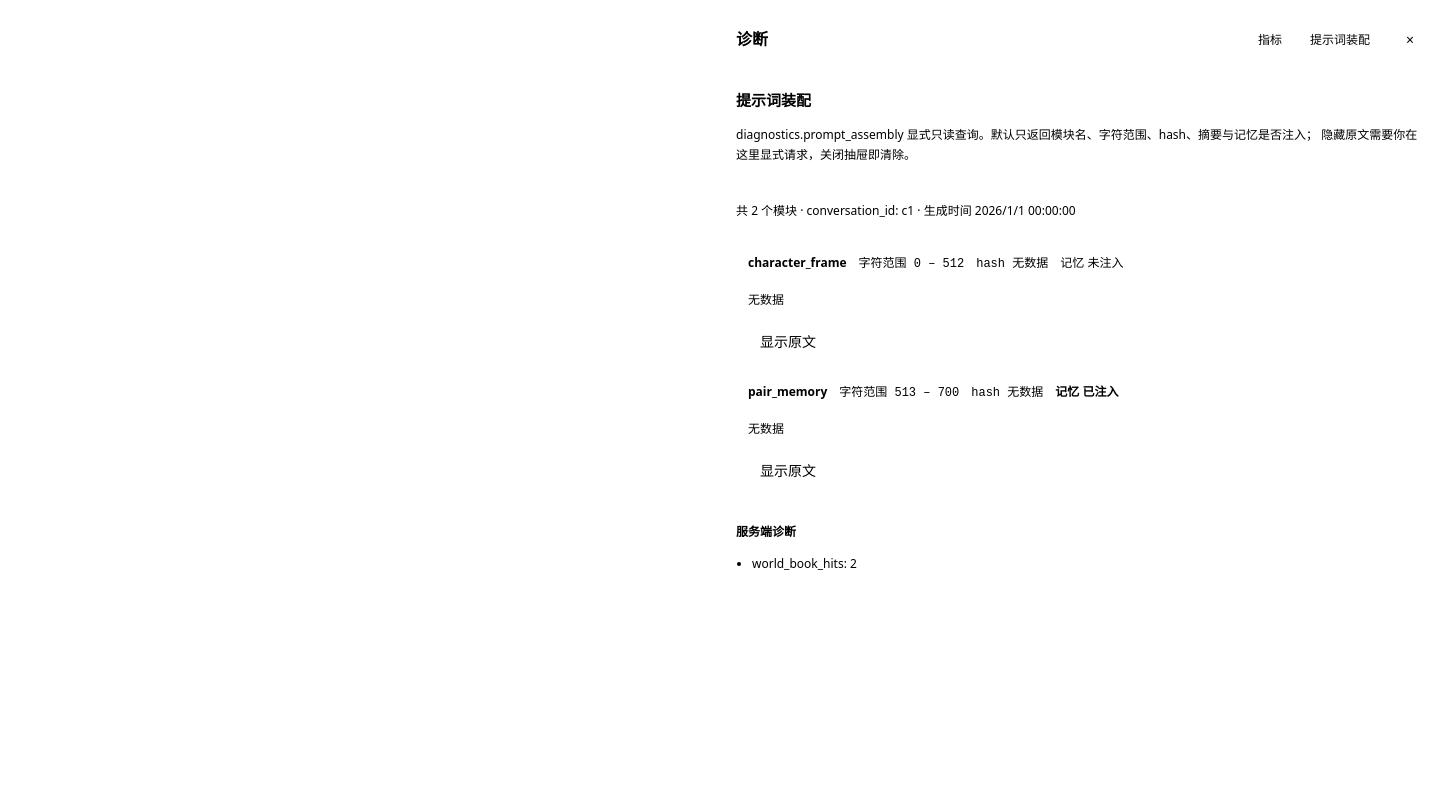
Test: DiagnosticsDrawer 诊断抽屉 › 隐藏原文请求失败时以告警显示错误原文
What coordinates should you click on to do the following:
click the button with test id "diag-module-hidden-btn-character_frame"
I would click on:
 (788, 342)
Its box is [748,326,828,358].
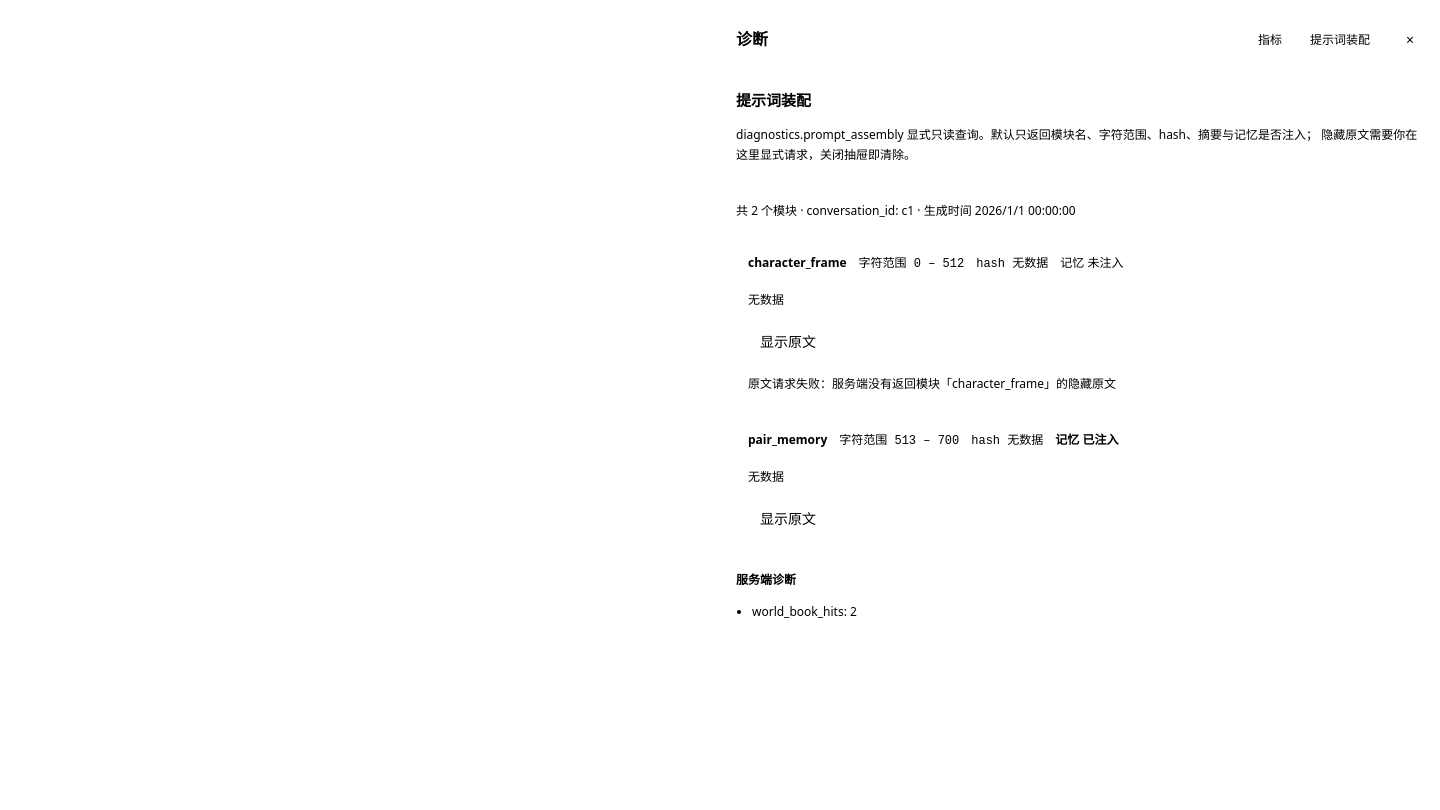
Result: the message "原文请求失败：服务端没有返回模块「character_frame」的隐藏原文" is shown at [748,374,1116,392]
